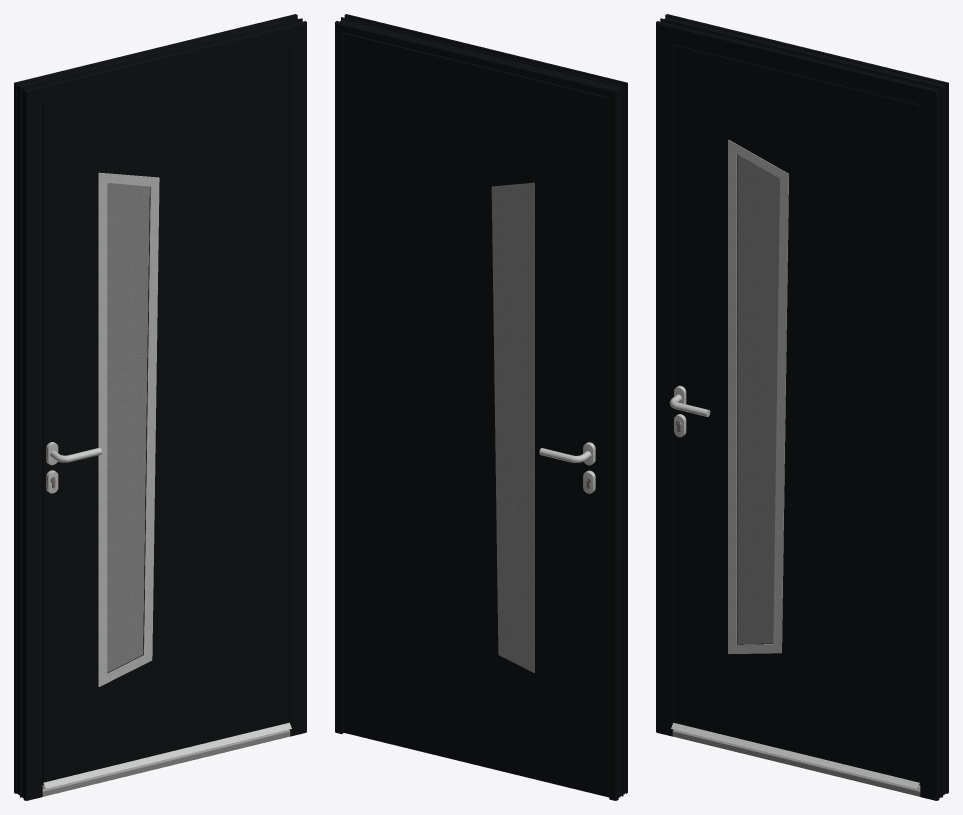
The picture shows the model from 3 angles, left to right: view 1: azimuth 30°, elevation 25°; view 2: azimuth 150°, elevation 25°; view 3: azimuth 330°, elevation 25°; orthographic projection.
Parts seen in each view (by area): view 1: bloco_61, aroFixo, Plane001, alunox_38, aroMovel, rodapé, escovas, puxador001; view 2: bloco_61, aroFixo, Plane002, aroMovel, puxador; view 3: bloco_61, aroFixo, Plane001, alunox_38, aroMovel, rodapé, escovas, puxador001.
Boxes of the visible parts, x1=… form: bloco_61: x1=43, y1=46, x2=289, y2=782; aroFixo: x1=14, y1=14, x2=306, y2=800; Plane001: x1=107, y1=183, x2=149, y2=672; alunox_38: x1=98, y1=172, x2=159, y2=686; aroMovel: x1=42, y1=44, x2=289, y2=784; rodapé: x1=42, y1=729, x2=290, y2=796; escovas: x1=42, y1=722, x2=291, y2=788; puxador001: x1=46, y1=442, x2=101, y2=493; bloco_61: x1=343, y1=34, x2=607, y2=796; aroFixo: x1=335, y1=14, x2=627, y2=800; Plane002: x1=491, y1=182, x2=534, y2=672; aroMovel: x1=343, y1=32, x2=609, y2=796; puxador: x1=539, y1=442, x2=595, y2=493; bloco_61: x1=673, y1=46, x2=918, y2=782; aroFixo: x1=656, y1=14, x2=948, y2=800; Plane001: x1=737, y1=154, x2=779, y2=644; alunox_38: x1=728, y1=140, x2=788, y2=654; aroMovel: x1=673, y1=44, x2=920, y2=784; rodapé: x1=672, y1=729, x2=920, y2=796; escovas: x1=671, y1=722, x2=920, y2=788; puxador001: x1=669, y1=385, x2=710, y2=437.
Size of the model in its own units: 900 by 2165 by 209.
Materials: 7 (3 with a texture image).
